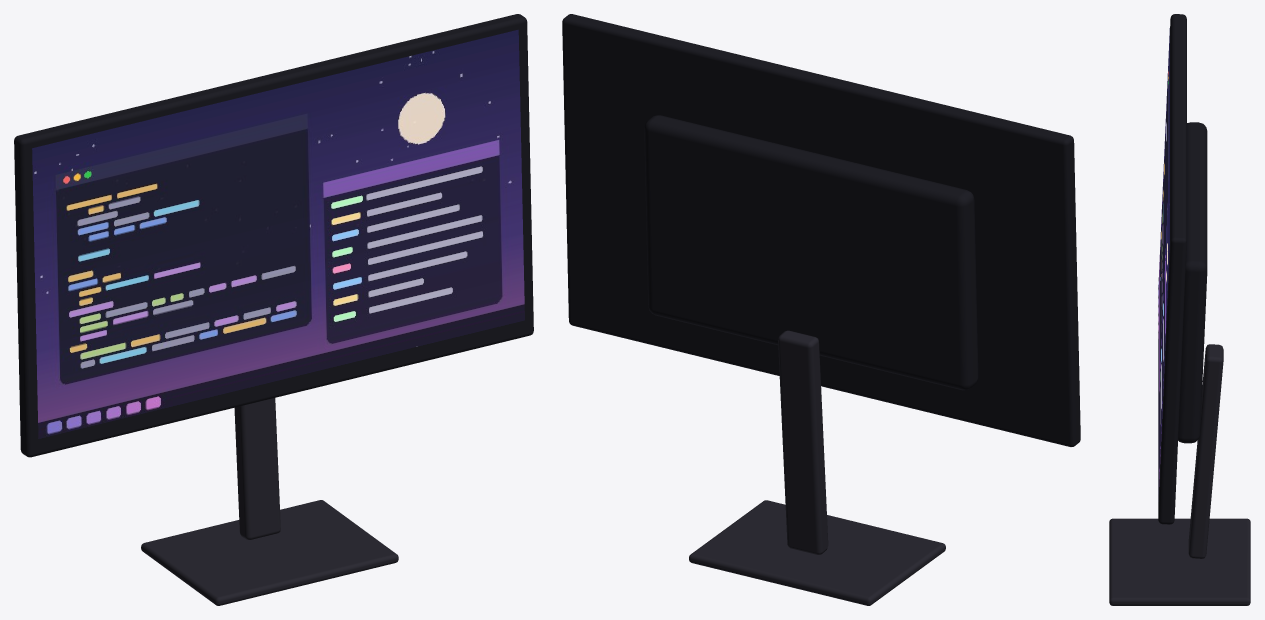
File: monitor.fbx
The picture shows the model from 3 angles, left to right: view 1: azimuth 30°, elevation 25°; view 2: azimuth 150°, elevation 25°; view 3: azimuth 270°, elevation 25°; orthographic projection. The views are drawn at different scales.
Parts seen in each view (by area): view 1: Monitor_Screen, monitor; view 2: monitor; view 3: monitor, Monitor_Screen.
Boxes of the visible parts, bbox=[...] form: Monitor_Screen: bbox=[32, 29, 524, 438]; monitor: bbox=[14, 14, 533, 605]; monitor: bbox=[562, 14, 1080, 605]; monitor: bbox=[1109, 14, 1250, 605]; Monitor_Screen: bbox=[1158, 28, 1169, 501].
Bounding box in the file's own units: 0.72 × 0.6525 × 0.19.
